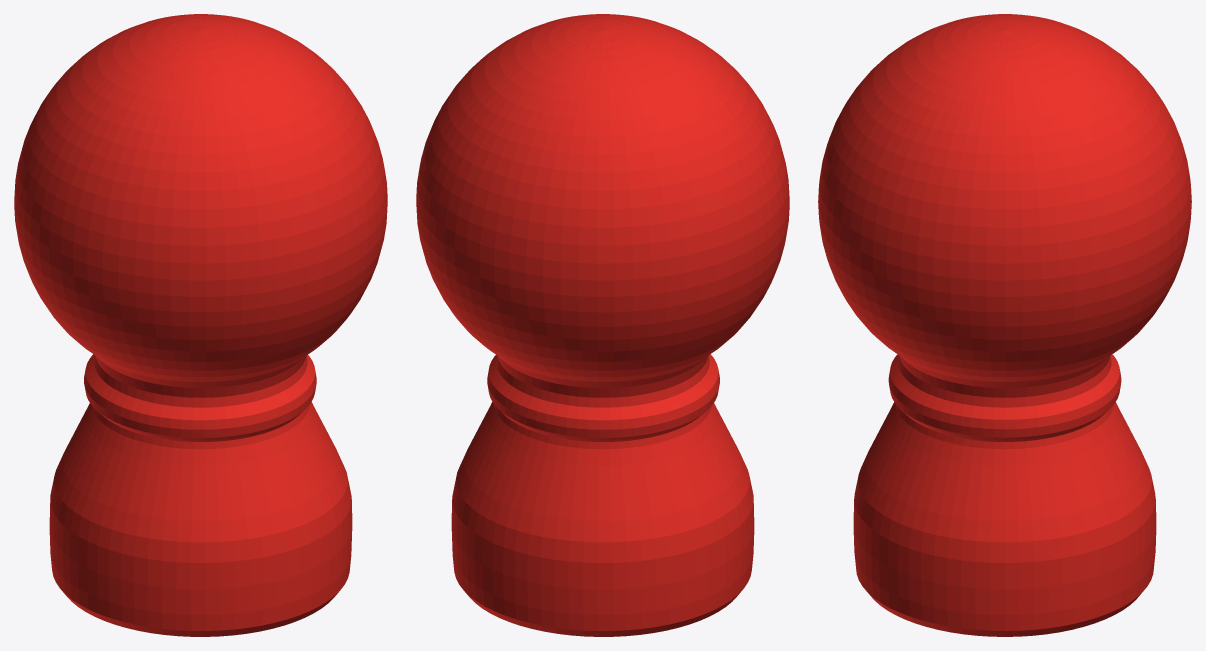
Rendered from glass.fbx.
The picture shows the model from 3 angles, left to right: view 1: azimuth 30°, elevation 25°; view 2: azimuth 150°, elevation 25°; view 3: azimuth 270°, elevation 25°; orthographic projection.
Parts seen in each view (by area): view 1: Sphere; view 2: Sphere; view 3: Sphere.
Boxes of the visible parts, box(x1,y1,x2,y2) form: Sphere: box(14, 14, 387, 636); Sphere: box(416, 14, 789, 636); Sphere: box(818, 14, 1191, 636).
Bounding box in the file's own units: 4.94 × 8.14 × 4.94.
